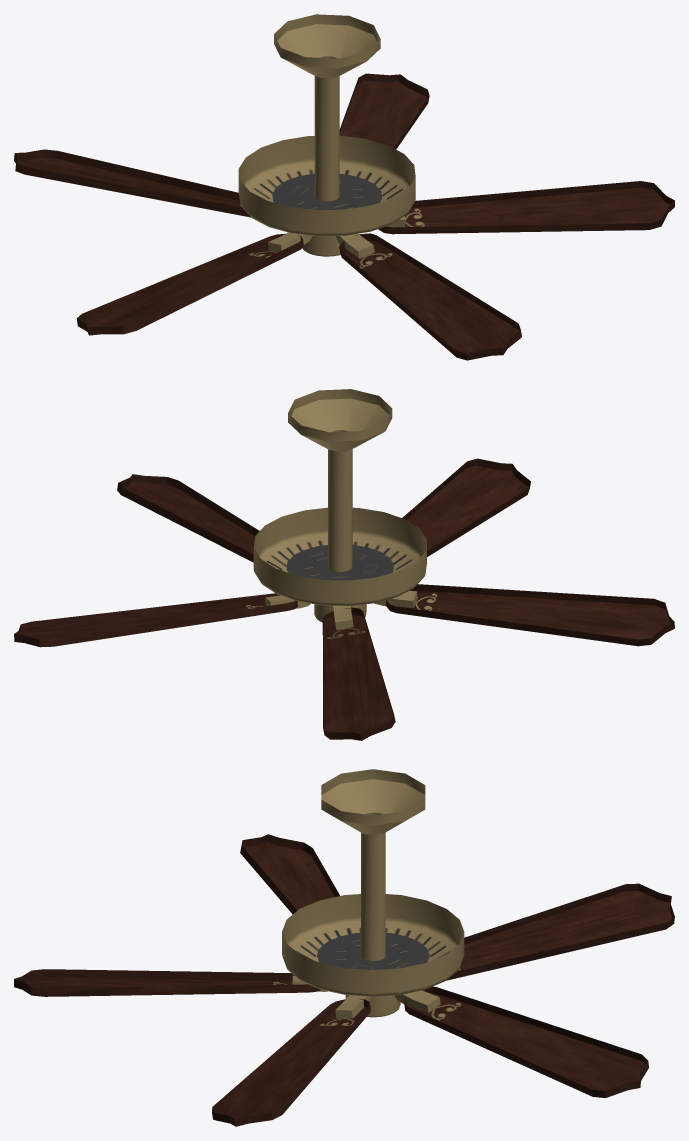
3 views of the same model, one above another, from view 1: azimuth 30°, elevation 25°; view 2: azimuth 150°, elevation 25°; view 3: azimuth 270°, elevation 25° (orthographic). The views are drawn at different scales.
Parts seen in each view (by area): view 1: Ceiling_Fan; view 2: Ceiling_Fan; view 3: Ceiling_Fan.
Boxes of the visible parts, bbox=[...] form: Ceiling_Fan: bbox=[14, 14, 674, 360]; Ceiling_Fan: bbox=[14, 389, 674, 740]; Ceiling_Fan: bbox=[14, 769, 674, 1126].
Size of the model in its own units: 11.92 by 4.18 by 11.68.
1 material, 1 textured.
